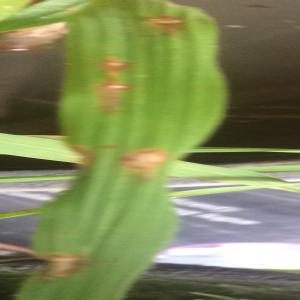Rice_Blast: (32, 244, 96, 285), (115, 138, 173, 183), (139, 7, 192, 47), (93, 76, 136, 114), (96, 50, 139, 77)
